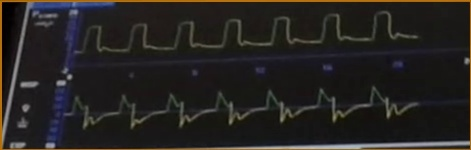Premature_cycling Flow: (67, 82, 422, 135)
